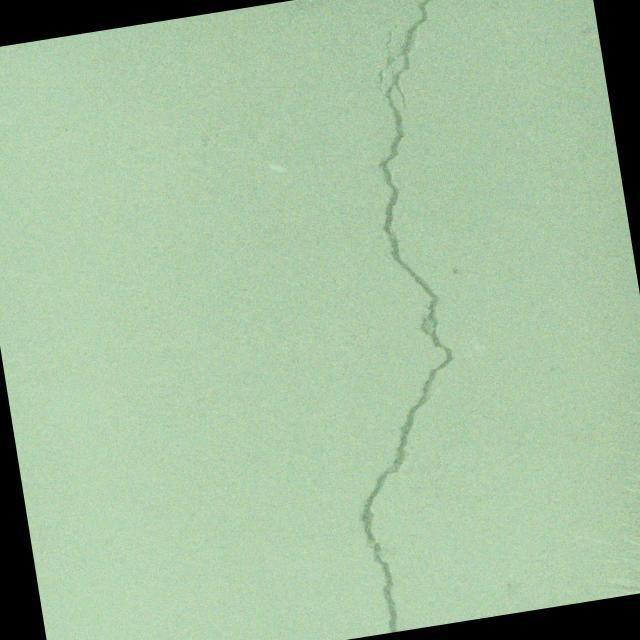crack: (276, 0, 577, 635), (433, 401, 528, 446), (573, 410, 640, 432)
